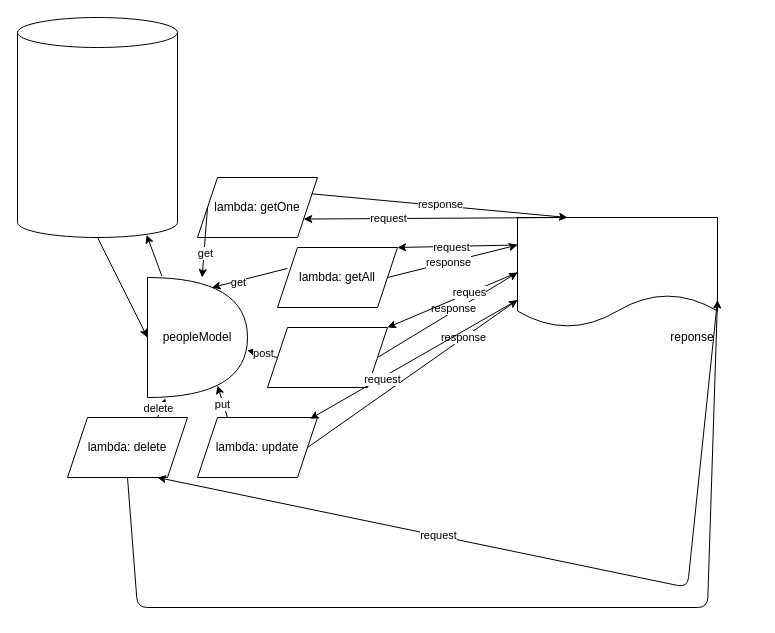
Some shapes in this 775 by 633 pixel diagram are drawn without their labels. The shapes that lost their labels are listed below. From the top down, each one's centre as x and y in pixels, then its label:
At point (97, 127): "DynamoDB".
At point (617, 272): "client [body]".
At point (327, 357): "lambda: create".
